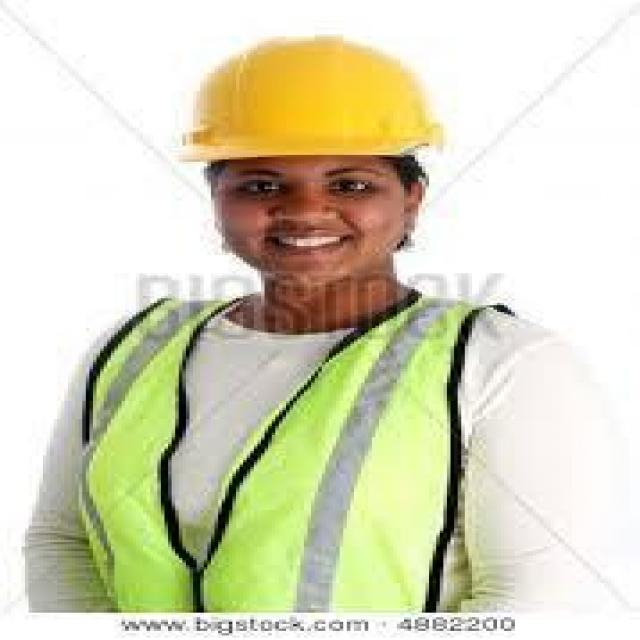hat: (179, 34, 447, 160)
